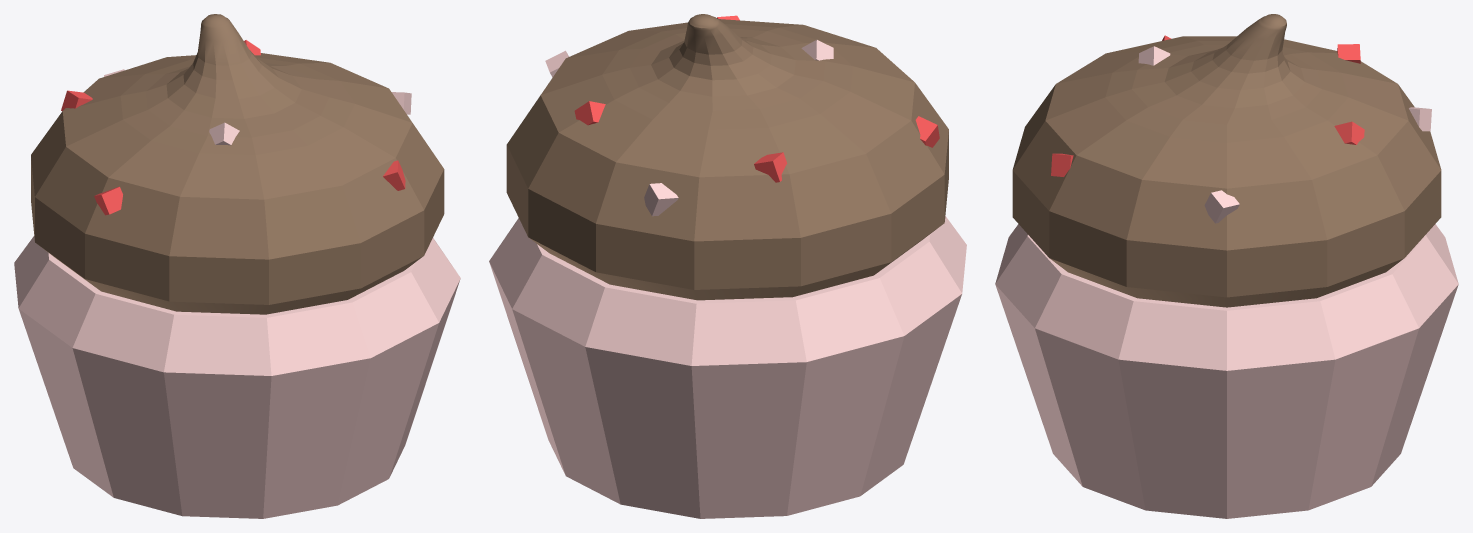
File: Cupcake_chocolate.fbx
The picture shows the model from 3 angles, left to right: view 1: azimuth 30°, elevation 25°; view 2: azimuth 150°, elevation 25°; view 3: azimuth 270°, elevation 25°; orthographic projection. The views are drawn at different scales.
Parts seen in each view (by area): view 1: pCube298; view 2: pCube298; view 3: pCube298.
Part boxes in pixels (bbox=[...]): pCube298: bbox=[14, 14, 460, 518]; pCube298: bbox=[489, 14, 966, 518]; pCube298: bbox=[995, 14, 1458, 518].
Bounding box in the file's own units: 10.72 × 11.03 × 10.8.
